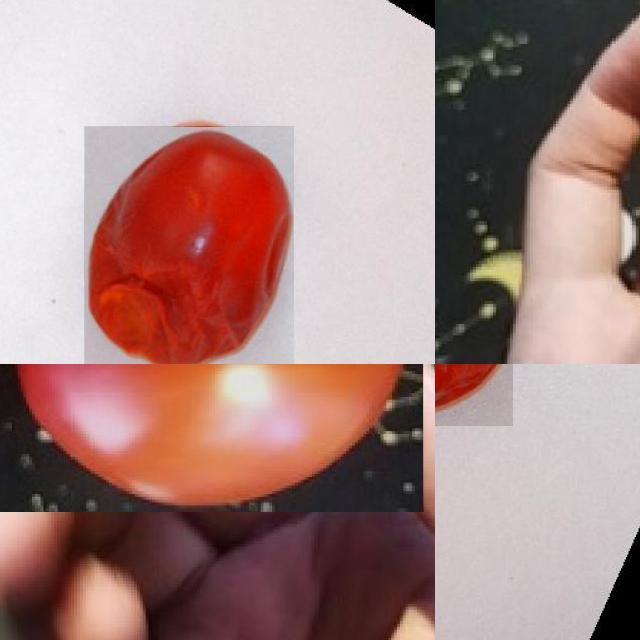Fresh Tomato: (0, 364, 424, 511)
Rotten Tomato: (83, 125, 294, 364)
